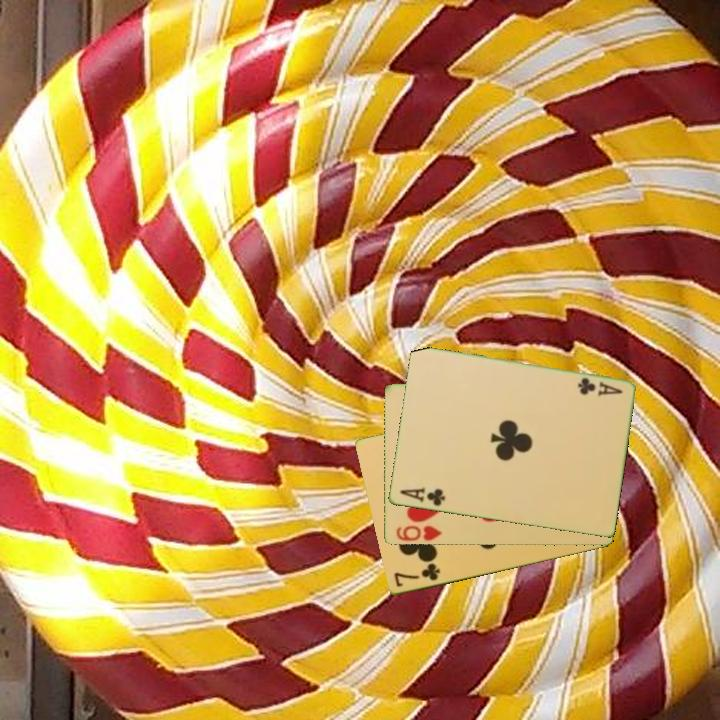6h: (392, 522, 444, 543)
7c: (390, 560, 443, 590)
Ac: (396, 484, 448, 509), (574, 374, 625, 399)
